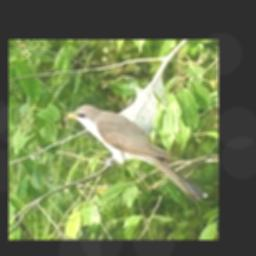Cuckoo: (62, 104, 203, 203)
